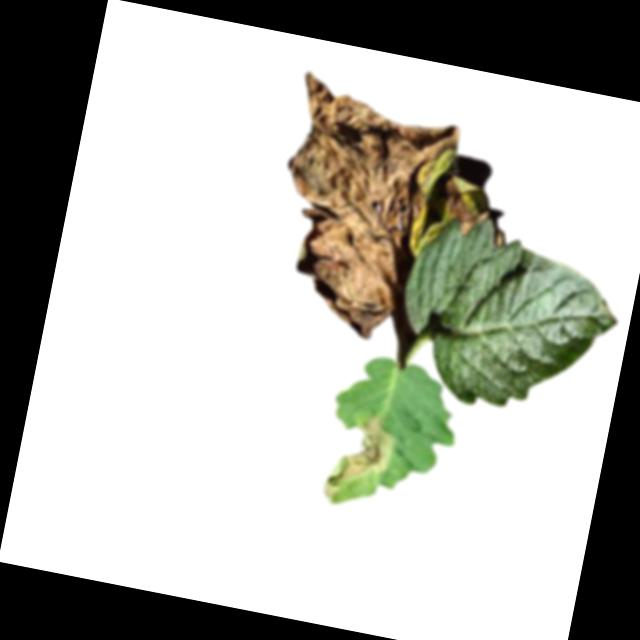Late_blight: (256, 68, 466, 348), (320, 405, 402, 515), (442, 176, 497, 240)
